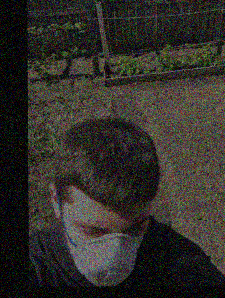with_mask: (64, 206, 151, 286)
